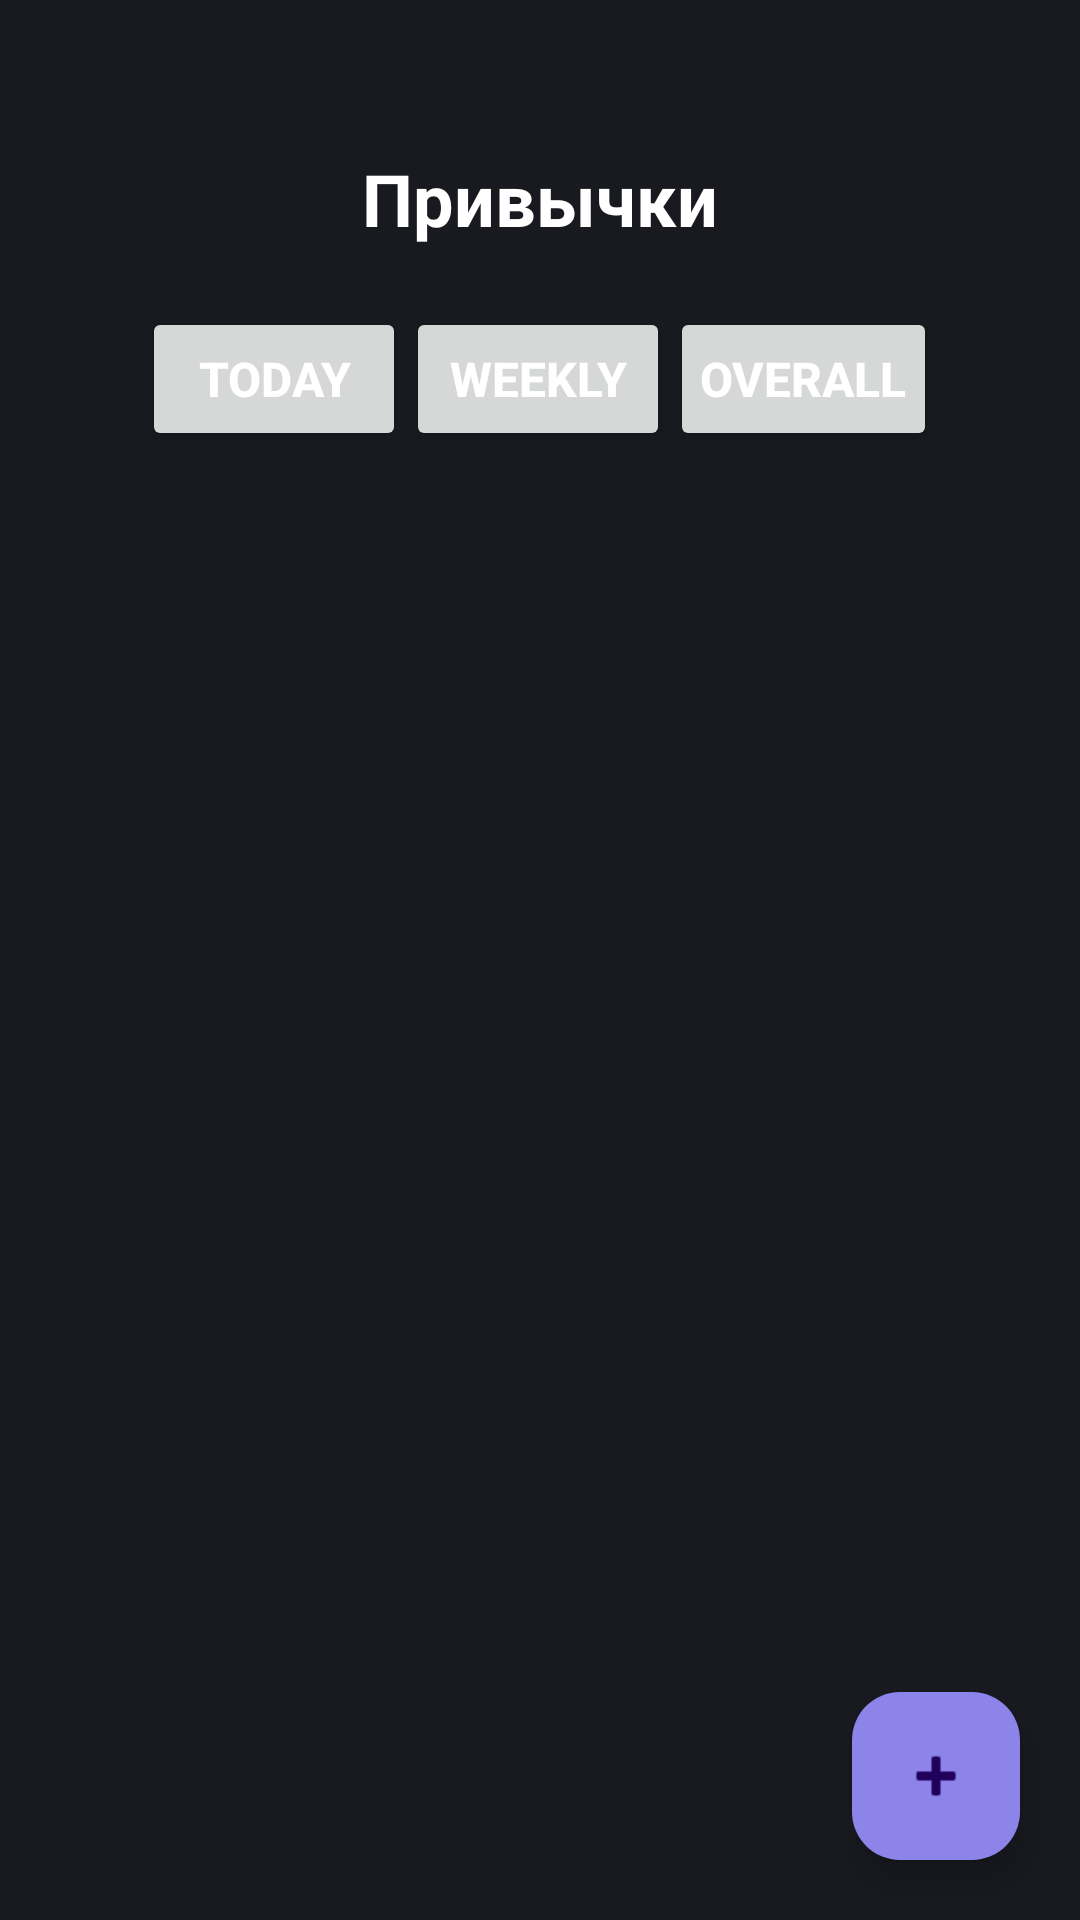

Point at icon controls on the screen. Image size 1080×1920, points as point (x, y).
add habit: point (936, 1776)
